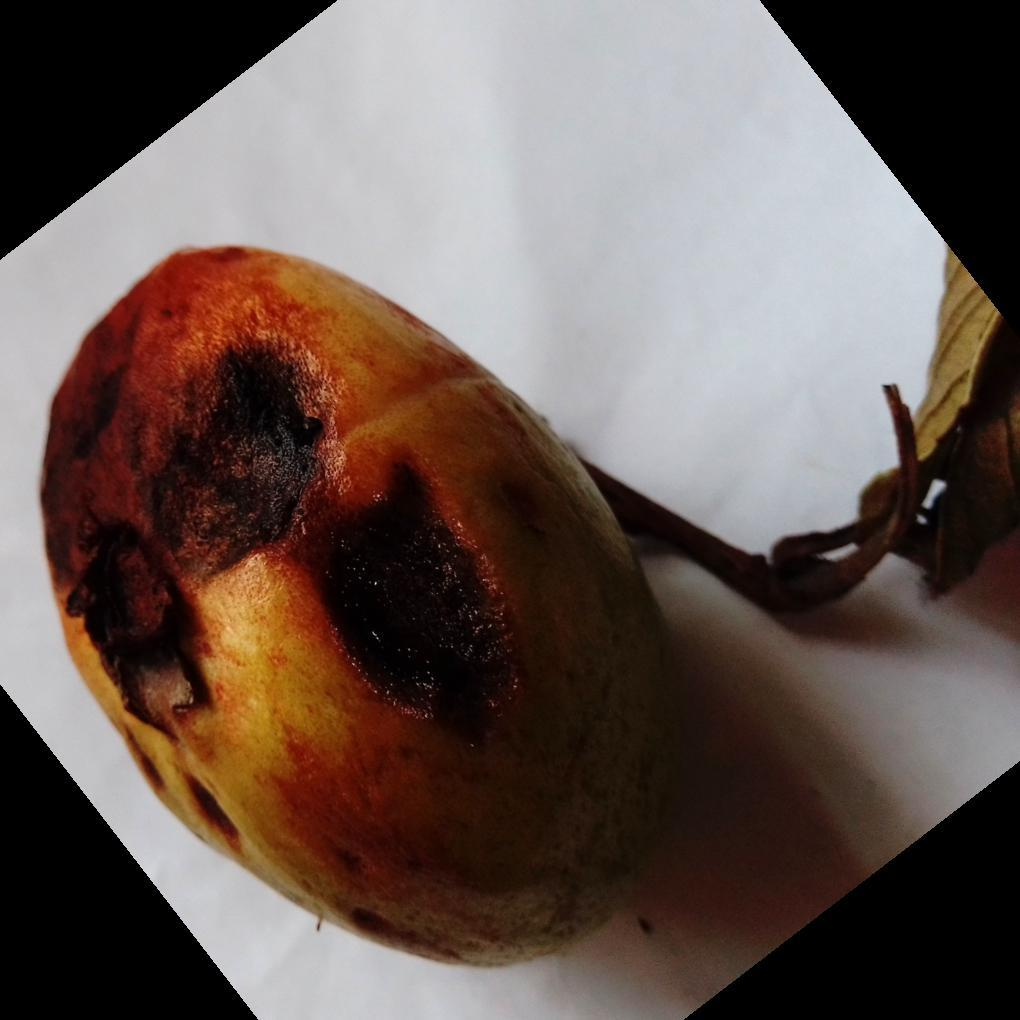FreshOrange: (38, 246, 680, 971)
